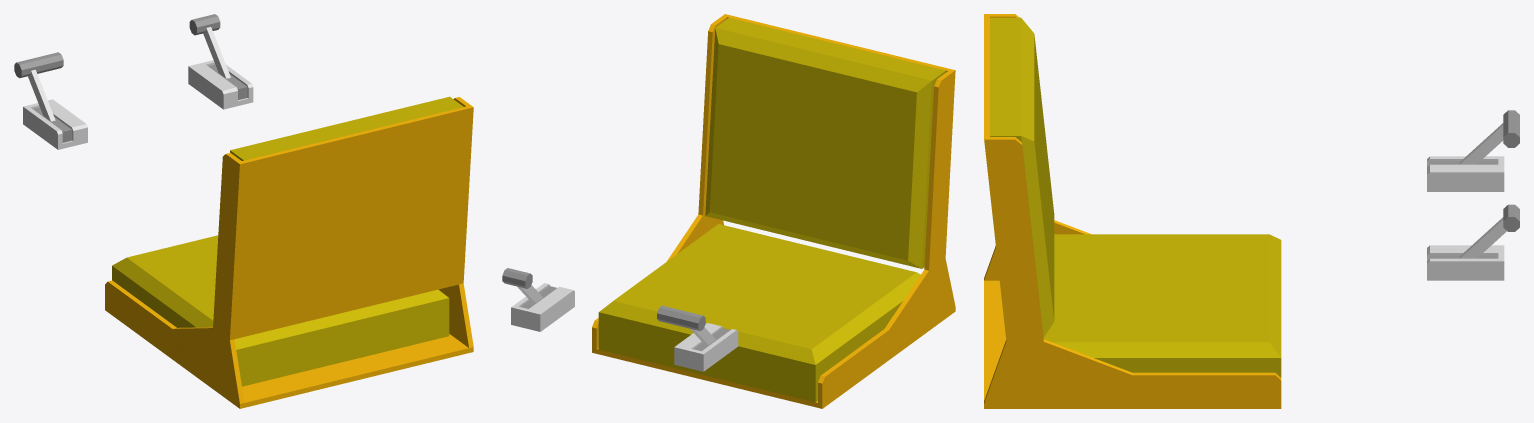
The model's file is seat_train_driver_tiny.dae.
3 renders of one model, left to right at view 1: azimuth 30°, elevation 25°; view 2: azimuth 150°, elevation 25°; view 3: azimuth 270°, elevation 25°, orthographic. The views are drawn at different scales.
Parts seen in each view (by area): view 1: Cube; view 2: Cube; view 3: Cube.
Boxes of the visible parts, bbox=[...] form: Cube: bbox=[14, 14, 473, 408]; Cube: bbox=[502, 14, 955, 408]; Cube: bbox=[984, 14, 1519, 408].
Size of the model in its own units: 0.5 by 0.9012 by 0.5.
